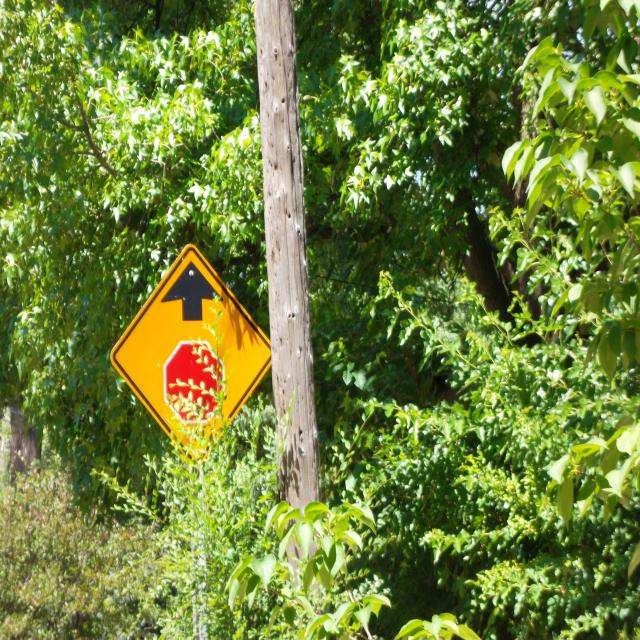stop: (160, 332, 230, 435)
warning: (109, 241, 278, 470)
